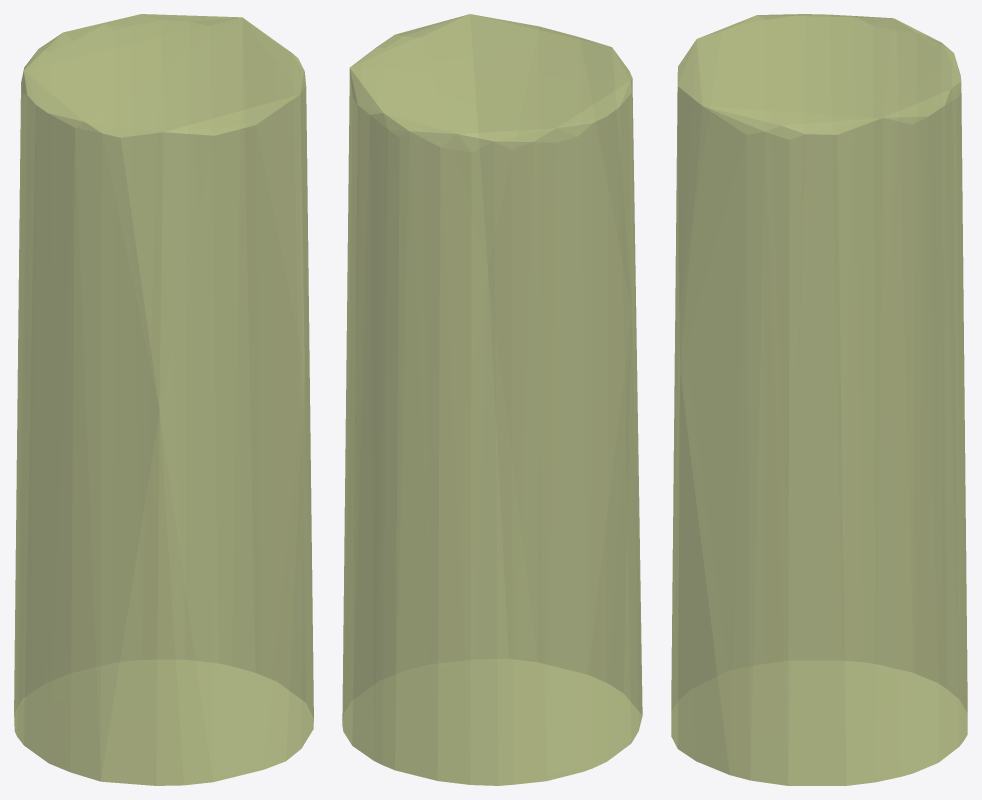
3 views of the same model, side by side, from view 1: azimuth 30°, elevation 25°; view 2: azimuth 150°, elevation 25°; view 3: azimuth 270°, elevation 25° (orthographic).
Parts seen in each view (by area): view 1: Shape_IndexedFaceSet.002_Shape_IndexedFaceSet.13927; view 2: Shape_IndexedFaceSet.002_Shape_IndexedFaceSet.13927; view 3: Shape_IndexedFaceSet.002_Shape_IndexedFaceSet.13927.
Boxes of the visible parts, bbox=[...] form: Shape_IndexedFaceSet.002_Shape_IndexedFaceSet.13927: bbox=[14, 14, 313, 785]; Shape_IndexedFaceSet.002_Shape_IndexedFaceSet.13927: bbox=[342, 14, 642, 785]; Shape_IndexedFaceSet.002_Shape_IndexedFaceSet.13927: bbox=[671, 14, 967, 785].
Size of the model in its own units: 0.4148 by 1.02 by 0.4148.
